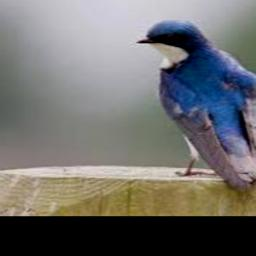Swallow: (139, 20, 256, 191)
